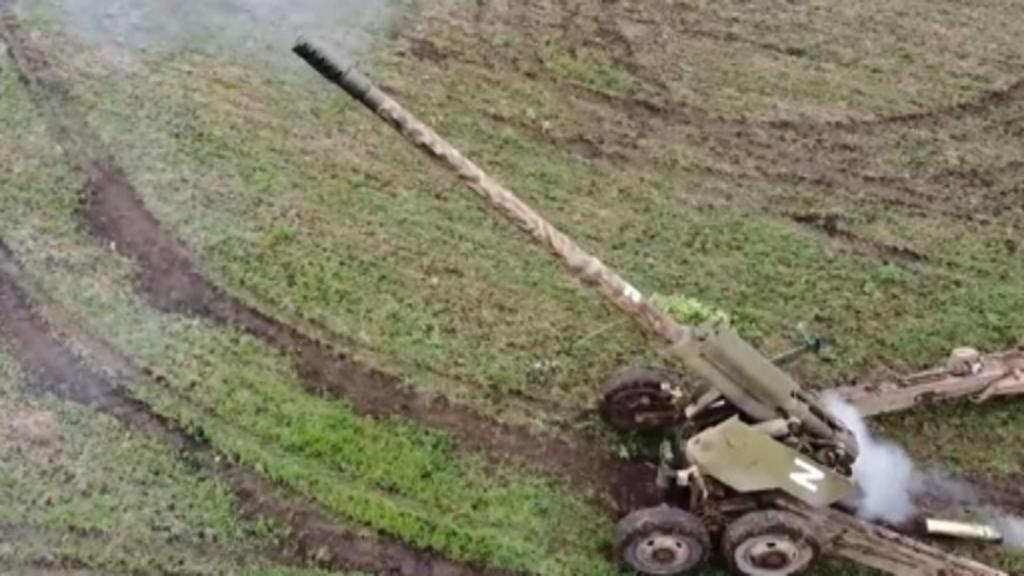ART: (290, 30, 1022, 576)
